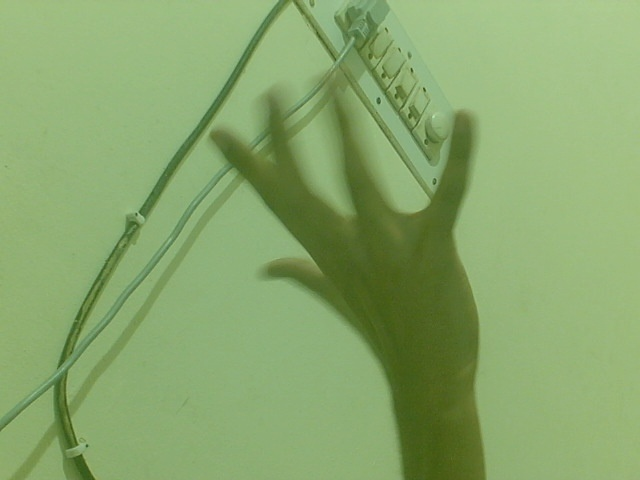hand: (203, 60, 499, 413)
